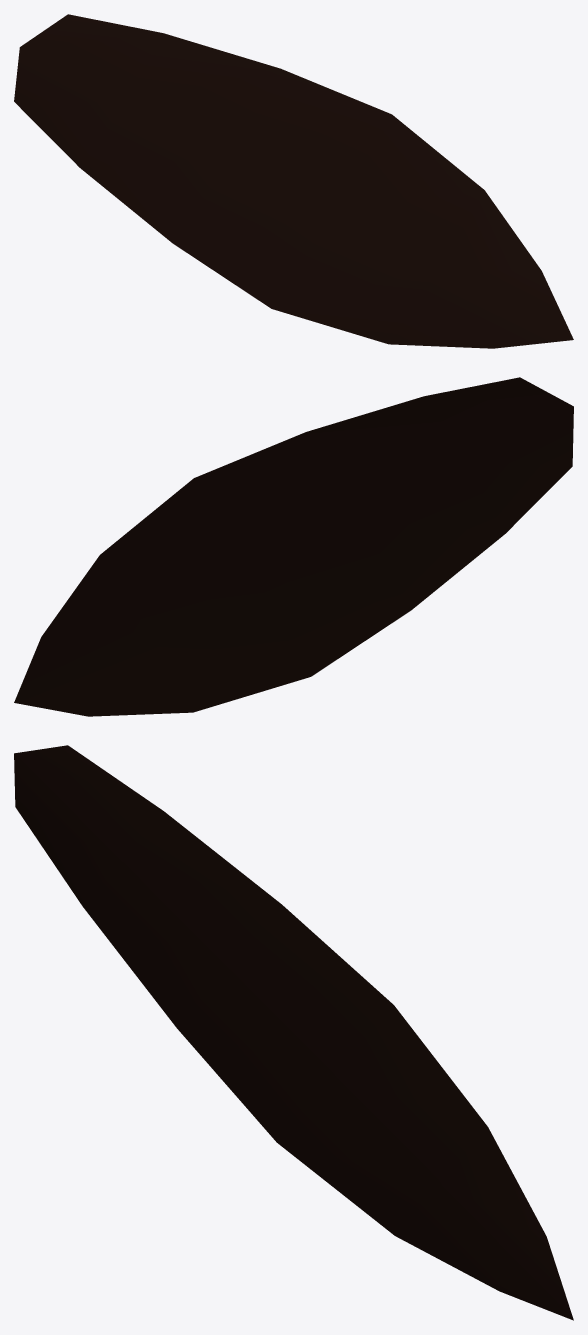
Rendered from rooster_feather_flight_secondary_014.obj.
3 views of the same model, one above another, from view 1: azimuth 30°, elevation 25°; view 2: azimuth 150°, elevation 25°; view 3: azimuth 330°, elevation 25° (orthographic).
Visible parts, largest first — view 1: feather_flight_secondary_014; view 2: feather_flight_secondary_014; view 3: feather_flight_secondary_014.
Part boxes in pixels (left/top/right/bottom): feather_flight_secondary_014: left=14, top=14, right=573, bottom=348; feather_flight_secondary_014: left=14, top=377, right=573, bottom=716; feather_flight_secondary_014: left=14, top=745, right=573, bottom=1320.
Bounding box in the file's own units: 0.0525 × 0.0403 × 0.000786.
